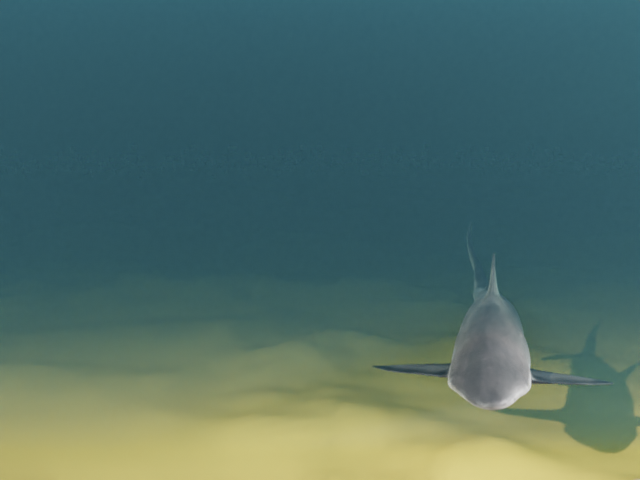Carribean Shark.001: (371, 221, 614, 410)
